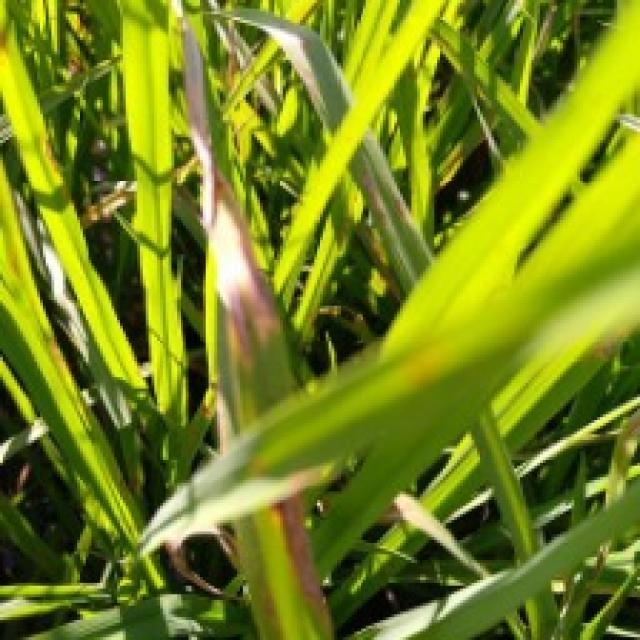Rice___Rice_Blast: (142, 237, 637, 554), (143, 12, 338, 637)
